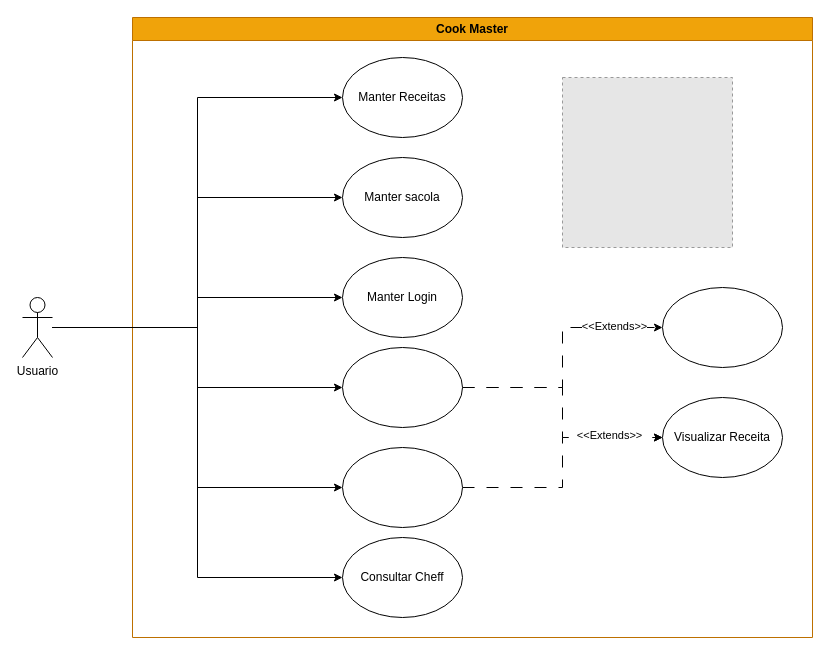
The diagram is 830 pixels wide and 655 high, and some of its shapes have lost their labels. Grey dashed boxes stand in for pictures. Each missing label, with the box of its shape:
Consultar receita: (342, 346, 462, 428)
Exibir Menu: (342, 446, 462, 528)
Sugerir Ingredientes: (662, 286, 782, 368)
